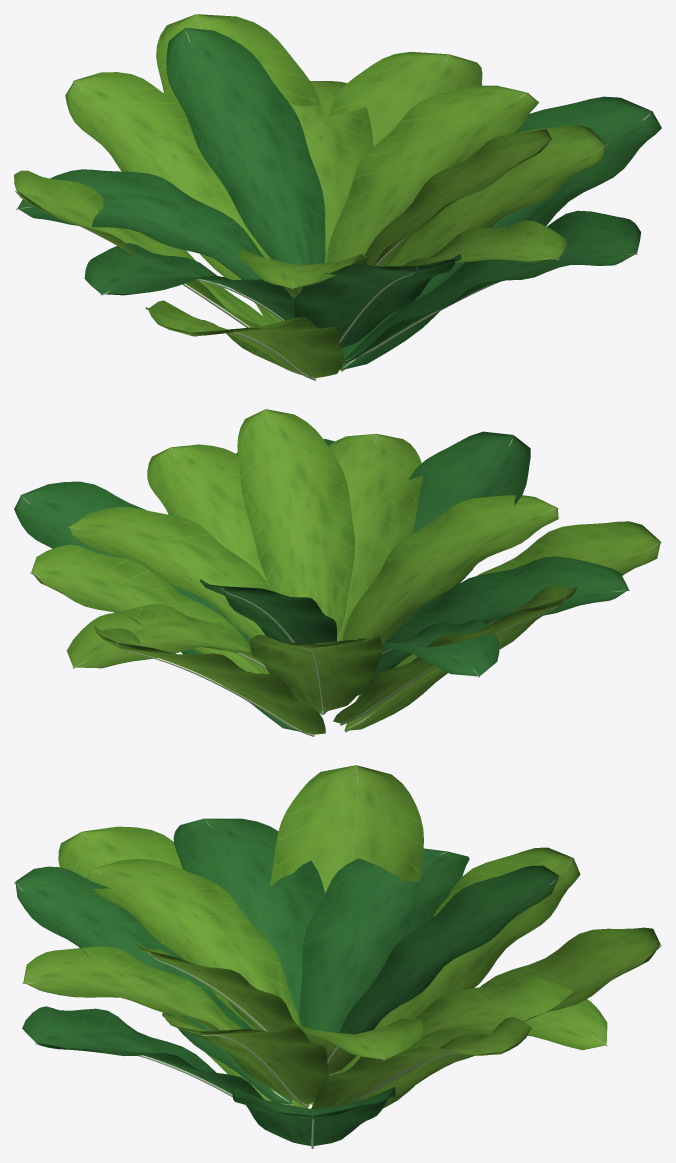
File: lettuce-cos-mobile.glb
3 views of the same model, one above another, from view 1: azimuth 30°, elevation 25°; view 2: azimuth 150°, elevation 25°; view 3: azimuth 270°, elevation 25° (orthographic). The views are drawn at different scales.
Visible parts, largest first — view 1: Lettuce · Cos; view 2: Lettuce · Cos; view 3: Lettuce · Cos.
Boxes of the visible parts, box(x1,y1,x2,y2) form: Lettuce · Cos: box(14, 14, 661, 380); Lettuce · Cos: box(14, 409, 661, 736); Lettuce · Cos: box(14, 765, 661, 1148).
Size of the model in its own units: 0.5067 by 0.2061 by 0.4663.
Materials: 3 (2 with a texture image).
